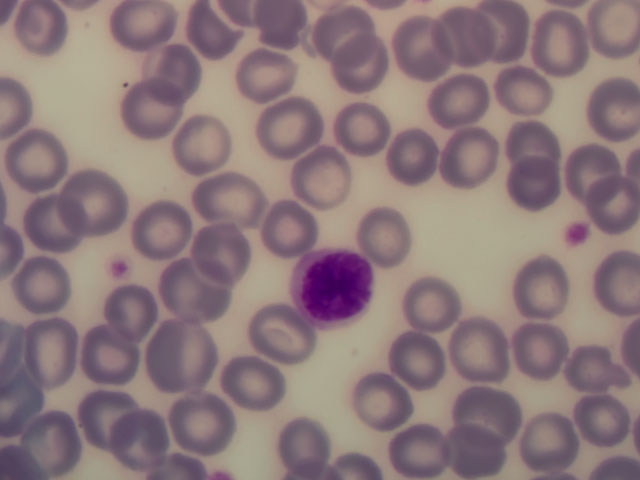Platelets: (105, 254, 135, 288), (561, 219, 592, 248)
RBC: (276, 411, 342, 480), (438, 411, 504, 480), (385, 411, 451, 480), (136, 37, 202, 105), (122, 73, 188, 141), (4, 126, 70, 194), (62, 163, 128, 231), (21, 185, 87, 253), (12, 245, 78, 313), (19, 306, 85, 374), (82, 320, 148, 388), (107, 276, 173, 344), (163, 254, 229, 322), (189, 231, 255, 299), (129, 197, 195, 265), (193, 166, 259, 234), (173, 113, 239, 181), (235, 38, 301, 106), (191, 1, 257, 69), (258, 91, 324, 159), (296, 146, 362, 214), (259, 195, 325, 263), (333, 102, 399, 170), (330, 44, 396, 112), (314, 3, 380, 71), (389, 20, 455, 88), (435, 6, 501, 74), (521, 3, 587, 71), (491, 64, 557, 132), (424, 71, 490, 139), (437, 126, 503, 194), (383, 125, 449, 193), (245, 302, 311, 370), (226, 345, 292, 413), (172, 389, 238, 457), (153, 327, 219, 395), (106, 406, 172, 474), (69, 386, 135, 454), (29, 410, 95, 478), (353, 371, 419, 439), (379, 328, 445, 396), (403, 269, 469, 337), (443, 318, 509, 386), (454, 373, 520, 441), (516, 411, 582, 479), (568, 391, 634, 459), (563, 337, 629, 405), (509, 316, 575, 384), (515, 251, 581, 319), (574, 250, 640, 318), (12, 1, 78, 68), (107, 1, 173, 68), (458, 1, 524, 68), (357, 204, 417, 265), (581, 178, 640, 235), (563, 146, 622, 203), (581, 80, 640, 137), (506, 162, 565, 219), (512, 115, 571, 172), (581, 1, 640, 57)
WBC: (293, 246, 373, 327)
